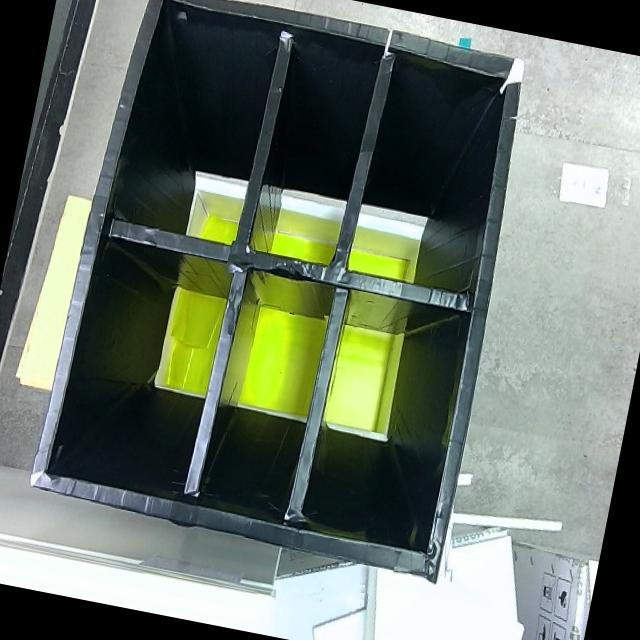box: (26, 0, 542, 581)
